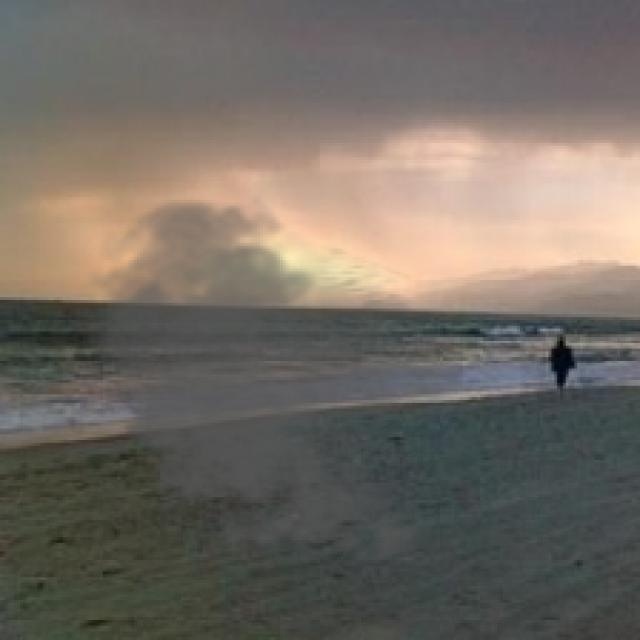smoke: (66, 192, 463, 577)
